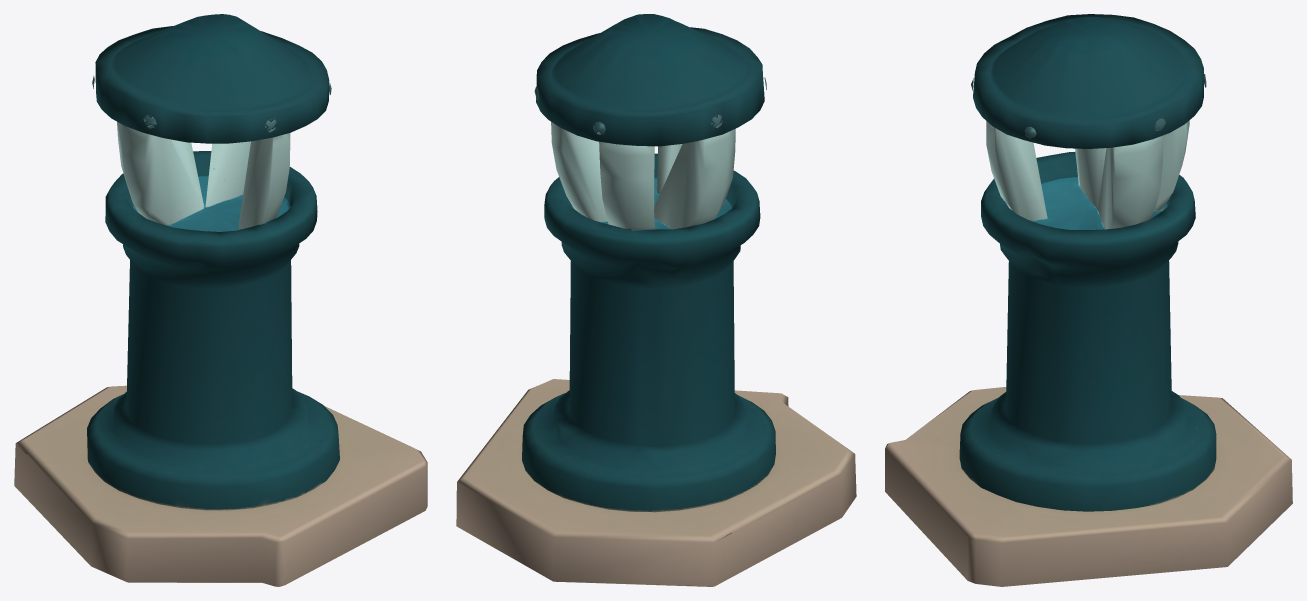
The model's file is park-guide-light.glb.
3 views of the same model, side by side, from view 1: azimuth 30°, elevation 25°; view 2: azimuth 150°, elevation 25°; view 3: azimuth 270°, elevation 25° (orthographic).
Visible parts, largest first — view 1: tripo_node_2400b94e-9af7-4b68-8f84-b9dd2aa532d7; view 2: tripo_node_2400b94e-9af7-4b68-8f84-b9dd2aa532d7; view 3: tripo_node_2400b94e-9af7-4b68-8f84-b9dd2aa532d7.
Boxes of the visible parts, x1,y1,x2,y2 form: tripo_node_2400b94e-9af7-4b68-8f84-b9dd2aa532d7: (14,14,427,586); tripo_node_2400b94e-9af7-4b68-8f84-b9dd2aa532d7: (456,14,856,586); tripo_node_2400b94e-9af7-4b68-8f84-b9dd2aa532d7: (885,14,1292,586).
Bounding box in the file's own units: 0.7051 × 0.998 × 0.7715.
1 material, 1 textured.
